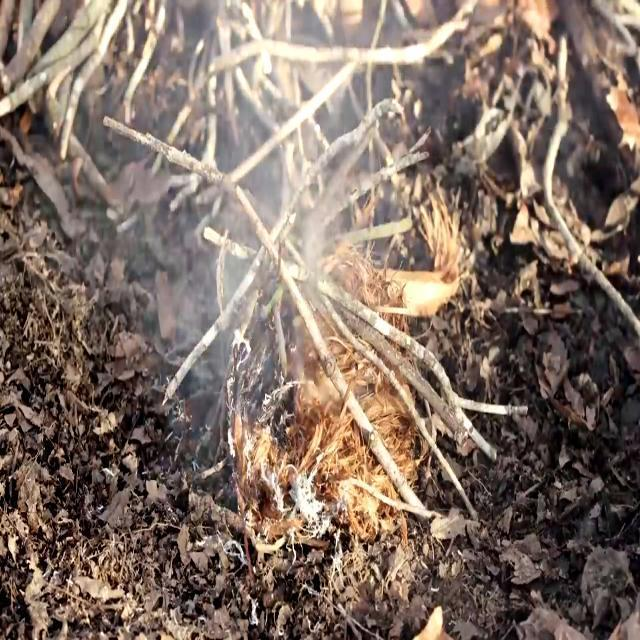Smoke: (80, 0, 414, 416)
